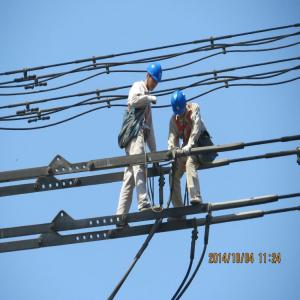blue: (145, 62, 164, 93), (171, 89, 188, 118)
